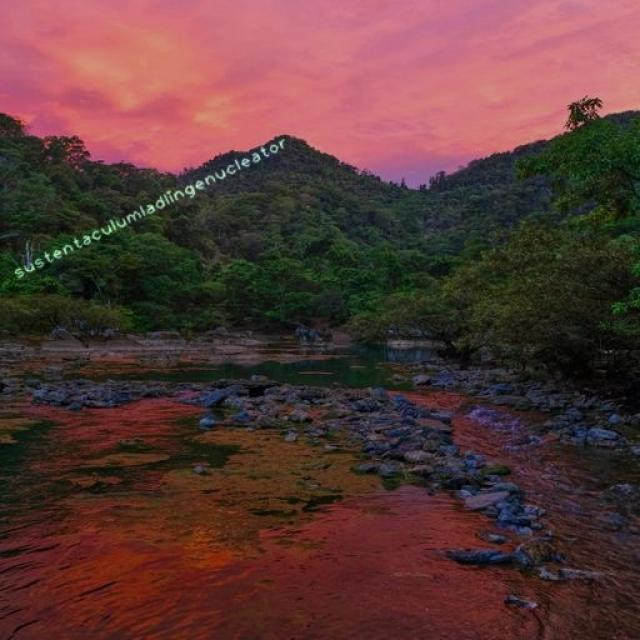watermark: (12, 132, 289, 281)
